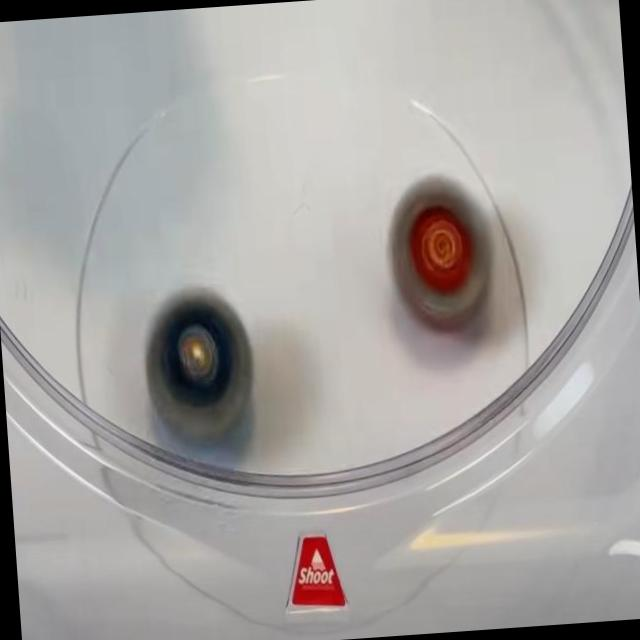Beyblade: (382, 170, 498, 337)
